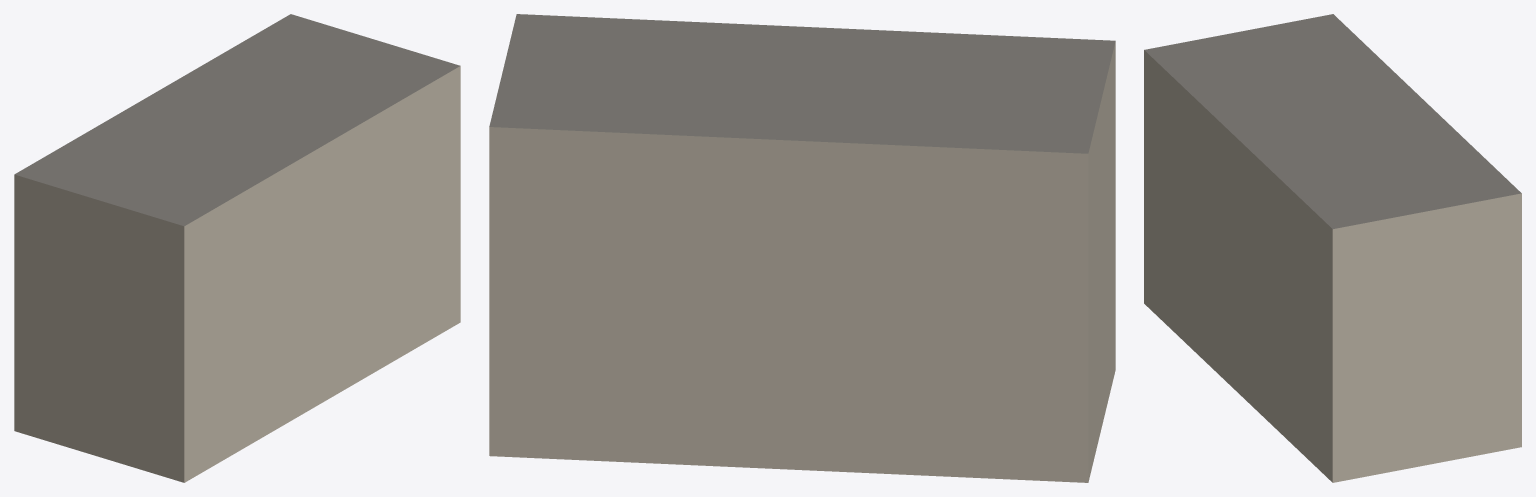
3 views of the same model, side by side, from view 1: azimuth 30°, elevation 25°; view 2: azimuth 150°, elevation 25°; view 3: azimuth 270°, elevation 25° (orthographic). The views are drawn at different scales.
Visible parts, largest first — view 1: HP-w1286965213; view 2: HP-w1286965213; view 3: HP-w1286965213.
Part boxes in pixels (x1,y1,x2,y2): HP-w1286965213: (14, 14, 460, 482); HP-w1286965213: (489, 14, 1115, 482); HP-w1286965213: (1144, 14, 1521, 482).
Size of the model in its own units: 32.74 by 18 by 24.28.
